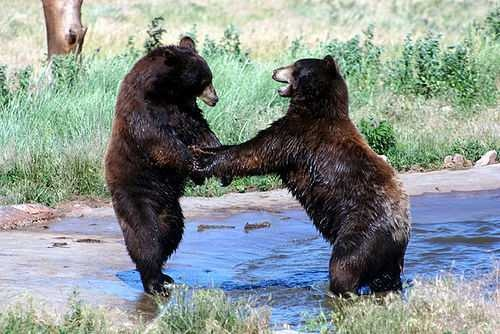bear: (241, 49, 370, 177), (101, 29, 230, 157)
